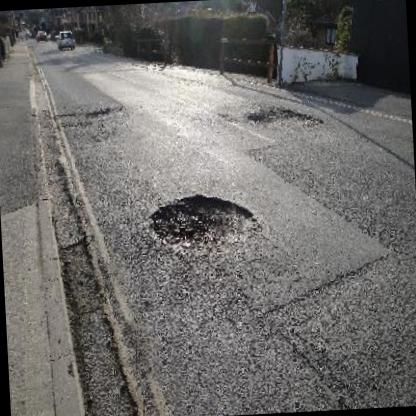pothole: (144, 187, 263, 257), (248, 102, 326, 131)
